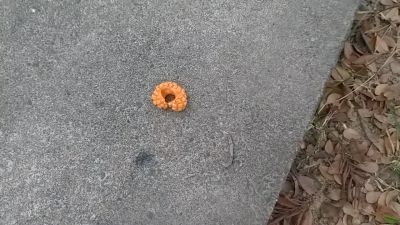eggs: (151, 81, 189, 114)
